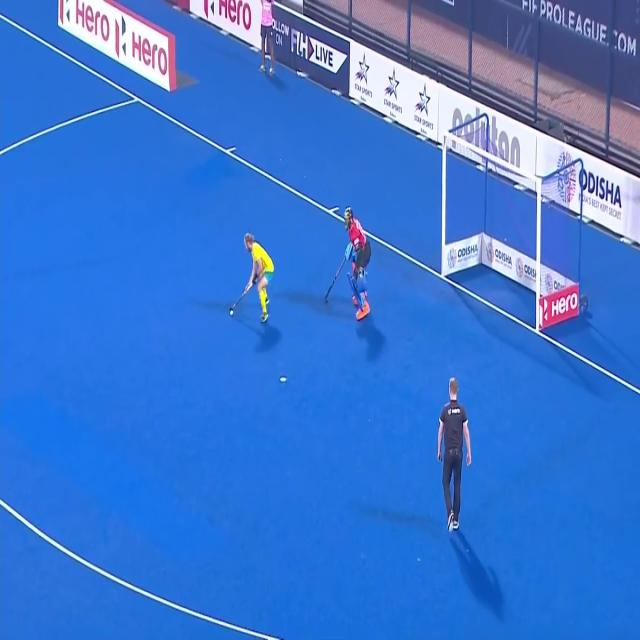ball: (226, 306, 236, 320)
